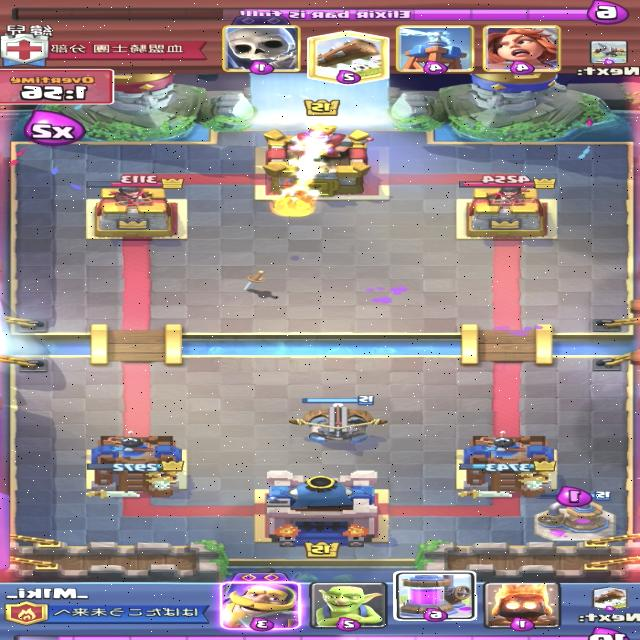Enemy-Fireball: (268, 187, 318, 218)
Player-ElixirPump: (532, 491, 618, 542)
Player-XBow: (287, 395, 386, 443)
